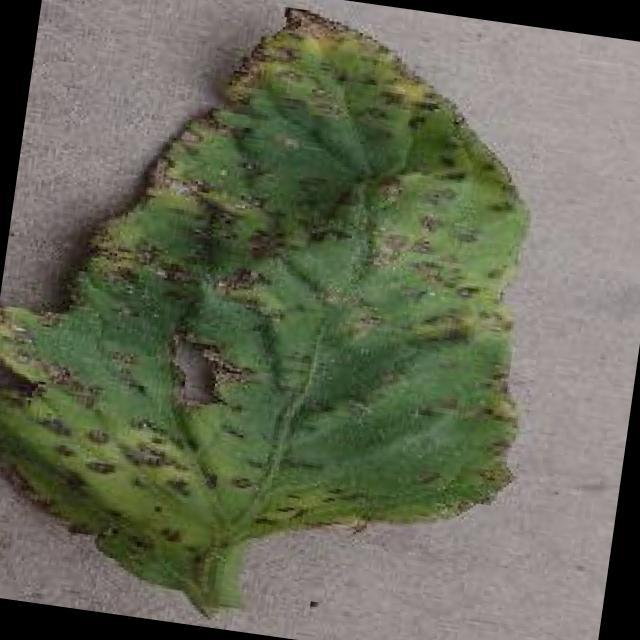Tomato bacterial spot leaf: (0, 0, 581, 638)
